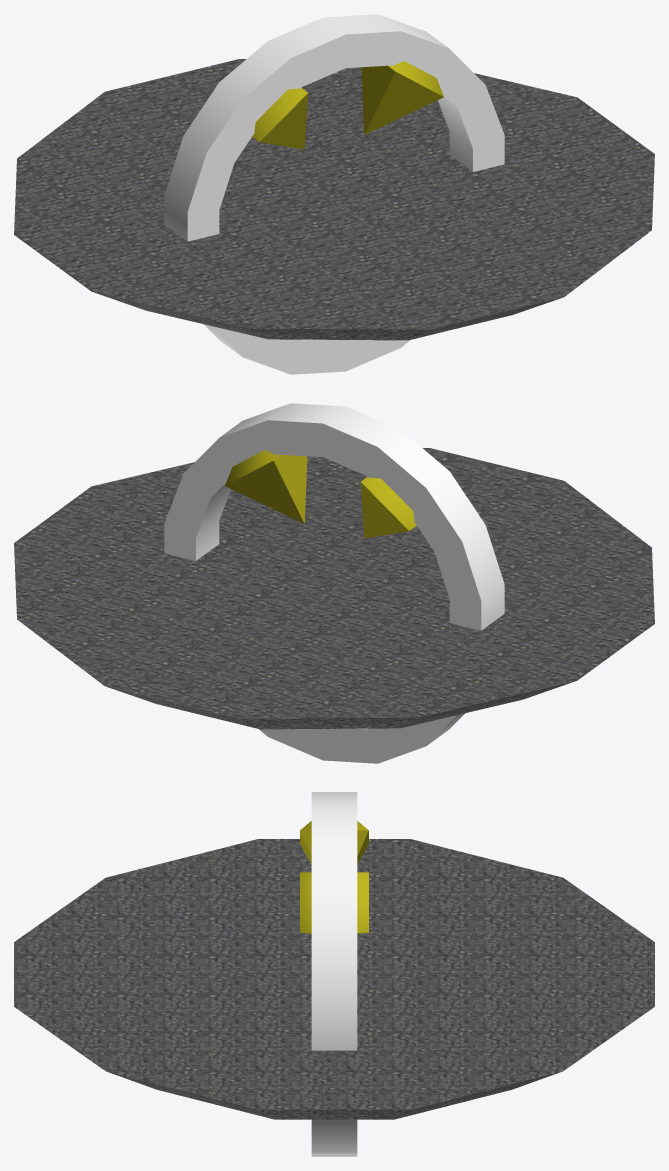
File: mapparts5.fbx
3 views of the same model, one above another, from view 1: azimuth 30°, elevation 25°; view 2: azimuth 150°, elevation 25°; view 3: azimuth 270°, elevation 25° (orthographic).
Visible parts, largest first — view 1: Box001, Tube001, Pyramid002, Pyramid001; view 2: Box001, Tube001, Pyramid002, Pyramid001; view 3: Box001, Tube001, Pyramid002, Pyramid001.
Boxes of the visible parts, x1=… form: Box001: x1=14, y1=59, x2=654, y2=340; Tube001: x1=164, y1=14, x2=504, y2=374; Pyramid002: x1=361, y1=61, x2=443, y2=134; Pyramid001: x1=252, y1=88, x2=308, y2=149; Box001: x1=14, y1=448, x2=654, y2=729; Tube001: x1=164, y1=403, x2=504, y2=763; Pyramid002: x1=225, y1=450, x2=307, y2=523; Pyramid001: x1=360, y1=477, x2=416, y2=538; Box001: x1=14, y1=839, x2=654, y2=1119; Tube001: x1=311, y1=792, x2=357, y2=1156; Pyramid002: x1=300, y1=872, x2=368, y2=933; Pyramid001: x1=300, y1=821, x2=368, y2=864.
Size of the model in its own units: 700 by 400 by 700.
Materials: 3 (3 with a texture image).
